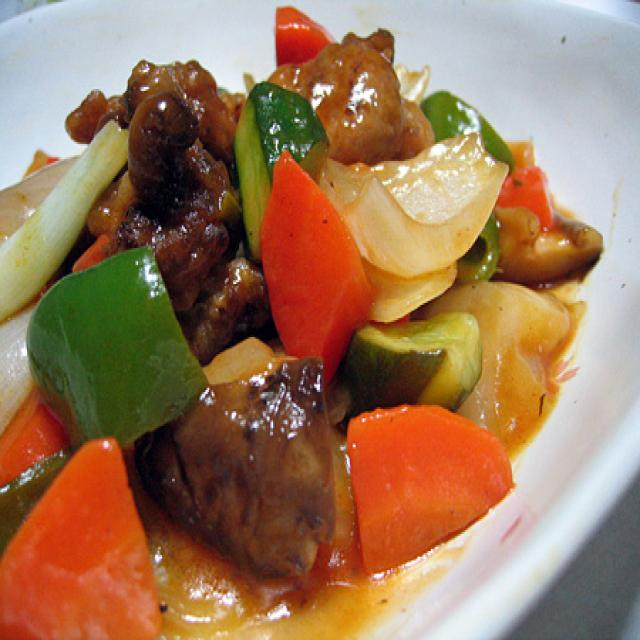猪肉菜式: (0, 4, 603, 640)
